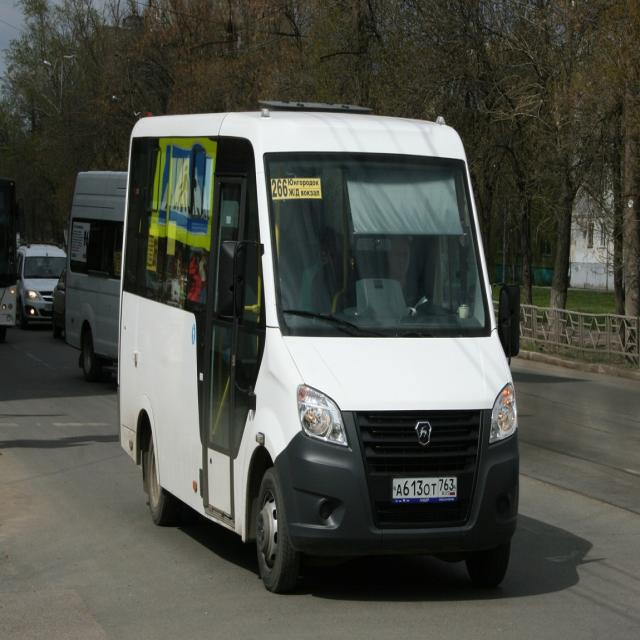number-of-bus: (273, 180, 290, 199)
